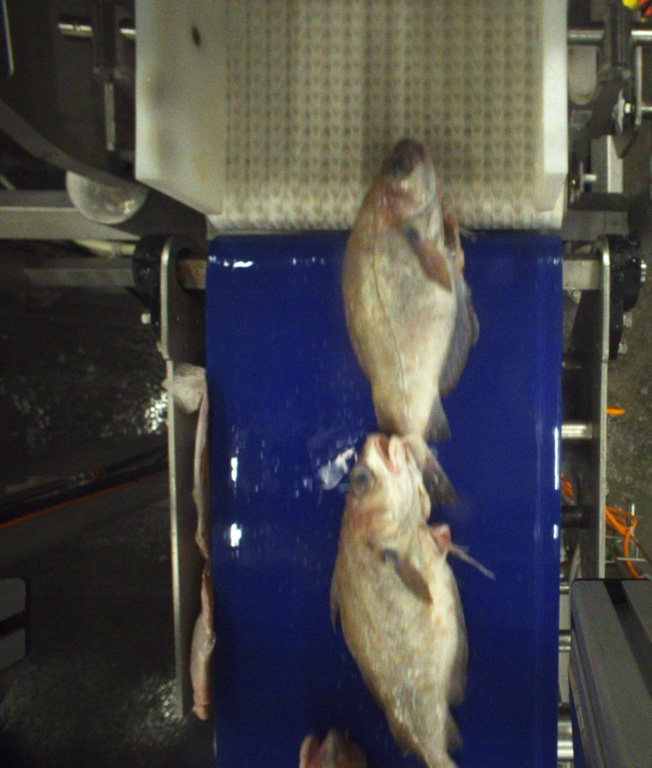BIB: (327, 434, 471, 766)
